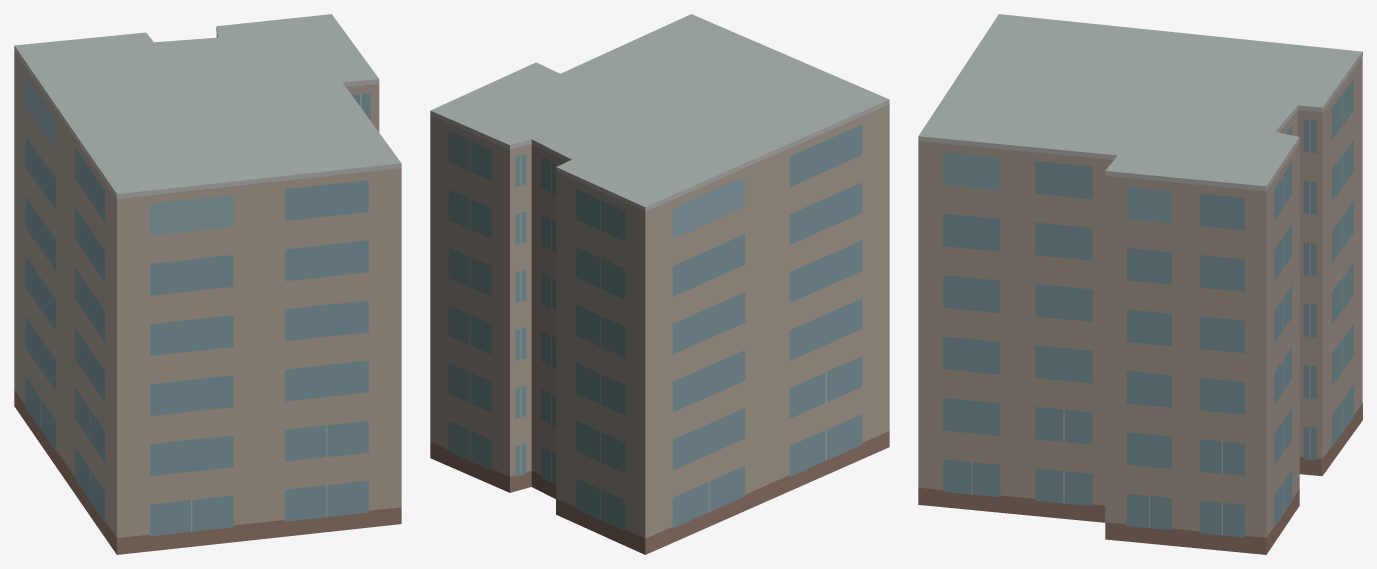
Rendered from survey-upis-32919258.glb.
3 views of the same model, side by side, from view 1: azimuth 30°, elevation 25°; view 2: azimuth 150°, elevation 25°; view 3: azimuth 270°, elevation 25° (orthographic). The views are drawn at different scales.
Visible parts, largest first — view 1: survey-upis-32919258.tmp; view 2: survey-upis-32919258.tmp; view 3: survey-upis-32919258.tmp.
Part boxes in pixels (bbox=[...]): survey-upis-32919258.tmp: bbox=[14, 14, 401, 554]; survey-upis-32919258.tmp: bbox=[430, 14, 889, 554]; survey-upis-32919258.tmp: bbox=[918, 14, 1362, 554].
Size of the model in its own units: 18.36 by 18.3 by 20.01.
